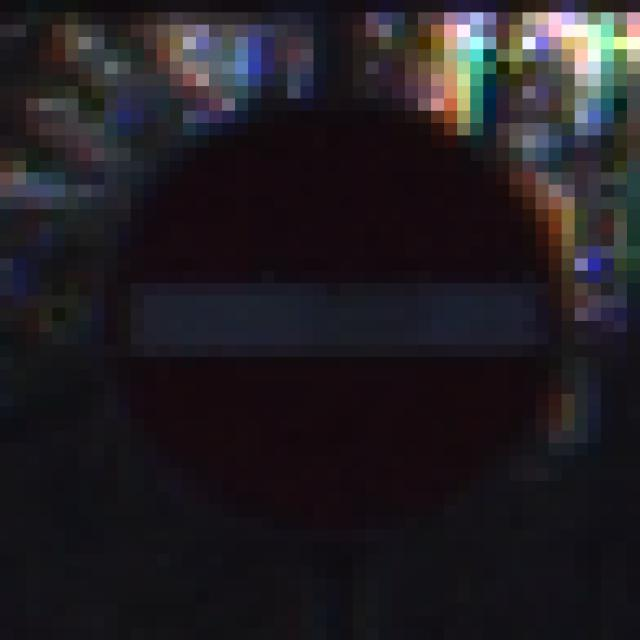No Entry: (79, 63, 576, 580)
